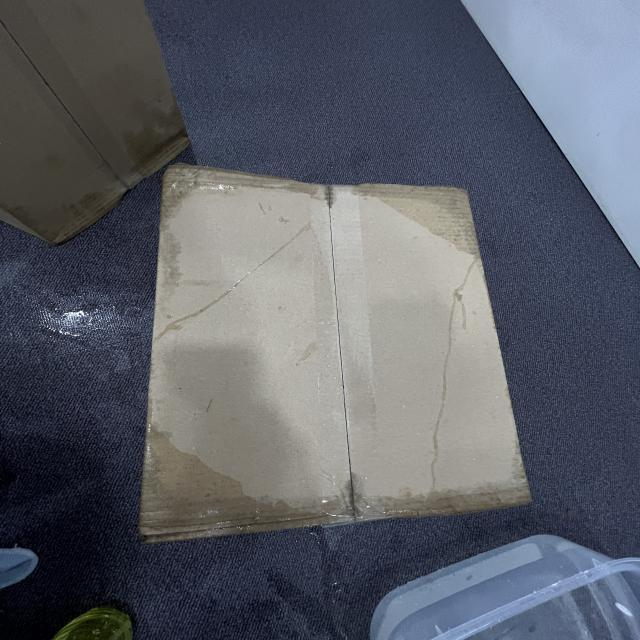wet: (144, 429, 350, 537), (164, 164, 328, 226), (357, 182, 475, 260), (354, 479, 537, 513)
